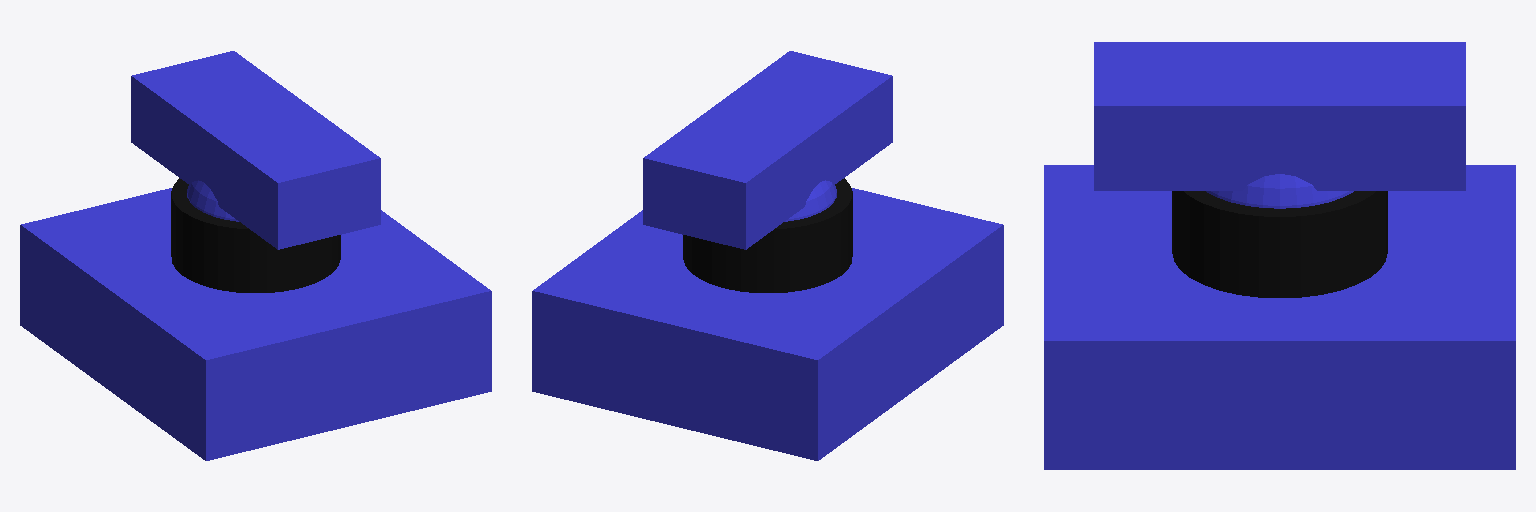
URDF robot description (evolved_robot):
<?xml version="1.0"?>
<robot name="evolved_robot">
  <material name="metal">
    <color rgba="0.7 0.7 0.7 1.0"/>
  </material>
  <material name="plastic">
    <color rgba="0.3 0.3 0.9 1.0"/>
  </material>
  <material name="rubber">
    <color rgba="0.1 0.1 0.1 1.0"/>
  </material>
  <material name="red">
    <color rgba="1.0 0.0 0.0 1.0"/>
  </material>
  <material name="wheel_material">
    <color rgba="0.2 0.2 0.2 1.0"/>
  </material>
  <link name="base_link">
    <visual>
      <geometry><box size="0.2782065296935696 0.3130306021335339 0.0939747855253997"/></geometry>
      <material name="plastic"/>
    </visual>
    <collision>
      <geometry><box size="0.2782065296935696 0.3130306021335339 0.0939747855253997"/></geometry>
    </collision>
    <inertial>
      <mass value="5.0"/>
      <inertia ixx="0.08901618182218973" ixy="0" ixz="0" 
               iyy="0.07185844456556993" iyz="0" 
               izz="0.1461558591968515"/>
    </inertial>
  </link>
  <link name="link1">
    <visual>
      <geometry><cylinder radius="0.07158522055848092" length="0.11932034292552557"/></geometry>
      <material name="rubber"/>
    </visual>
    <collision>
      <geometry><cylinder radius="0.07158522055848092" length="0.11932034292552557"/></geometry>
    </collision>
    <inertial>
      <mass value="0.5"/>
      <inertia ixx="0.0024675563035903413" ixy="0" ixz="0" 
               iyy="0.0024675563035903413" iyz="0" 
               izz="0.0025622219012031797"/>
    </inertial>
  </link>
  <joint name="joint1" type="prismatic">
    <parent link="base_link"/>
    <child link="link1"/>
    <origin xyz="0 0 0.04698739276269985" rpy="0 0 0"/>
    <axis xyz="0.9162275239977837 0.0 -0.40065836353293605"/>
    <dynamics damping="0.40154759364569137" friction="0.1"/>
    <limit lower="-0.4373221712677814" upper="0.942" effort="100" velocity="100"/>
  </joint>
  <link name="link2">
    <visual>
      <geometry><sphere radius="0.05930375874053482"/></geometry>
      <material name="plastic"/>
    </visual>
    <collision>
      <geometry><sphere radius="0.05930375874053482"/></geometry>
    </collision>
    <inertial>
      <mass value="0.5"/>
      <inertia ixx="0.001406774320302224" ixy="0" ixz="0" 
               iyy="0.001406774320302224" iyz="0" 
               izz="0.001406774320302224"/>
    </inertial>
  </link>
  <joint name="joint2" type="revolute">
    <parent link="base_link"/>
    <child link="link2"/>
    <origin xyz="0 0 0.09698739276269985" rpy="0 0 0"/>
    <axis xyz="0.06924333471532548 -0.465906071218334 -0.8821206796121482"/>
    <dynamics damping="0.4562130730949524" friction="0.1"/>
    <limit lower="-1.3592207787626347" upper="0.31400000000000006" effort="100" velocity="100"/>
  </joint>
  <link name="link3">
    <visual>
      <geometry><box size="0.10010991640666202 0.24785417138997268 0.06217577530324774"/></geometry>
      <material name="plastic"/>
    </visual>
    <collision>
      <geometry><box size="0.10010991640666202 0.24785417138997268 0.06217577530324774"/></geometry>
    </collision>
    <inertial>
      <mass value="0.5"/>
      <inertia ixx="0.005441459775830825" ixy="0" ixz="0" 
               iyy="0.001157318533125734" iyz="0" 
               izz="0.005954473803196567"/>
    </inertial>
  </link>
  <joint name="joint3" type="fixed">
    <parent link="base_link"/>
    <child link="link3"/>
    <origin xyz="0 0 0.14698739276269984" rpy="0 0 0"/>
    <axis xyz="0.8223284599852578 0.05212374979236044 -0.5666207008271562"/>
    <dynamics damping="0.7639415923927636" friction="0.1"/>
  </joint>
</robot>

--- What the picture shows (computed from the rendered views, not written in the file) ---
Views: 3 orthographic renders of the robot side by side, from view 1: azimuth 30°, elevation 25°; view 2: azimuth 150°, elevation 25°; view 3: azimuth 270°, elevation 25°.
Model evolved_robot with 4 links and 3 joints (1 revolute, 1 prismatic, 1 fixed), rooted at base_link, posed all joints at 0.
Links seen in each view (by area): view 1: base_link, link3, link1, link2; view 2: base_link, link3, link1, link2; view 3: base_link, link3, link1, link2.
Boxes of the visible links, x1=… form: base_link: x1=20, y1=188, x2=491, y2=460; link3: x1=131, y1=51, x2=380, y2=249; link1: x1=171, y1=178, x2=340, y2=292; link2: x1=187, y1=180, x2=238, y2=221; base_link: x1=532, y1=188, x2=1003, y2=460; link3: x1=643, y1=51, x2=892, y2=249; link1: x1=683, y1=178, x2=852, y2=292; link2: x1=785, y1=180, x2=836, y2=221; base_link: x1=1044, y1=165, x2=1515, y2=469; link3: x1=1094, y1=42, x2=1465, y2=190; link1: x1=1172, y1=191, x2=1387, y2=297; link2: x1=1206, y1=174, x2=1353, y2=208.
Size in the robot's own frame: 0.2782 by 0.313 by 0.2251 metres.
Geometry: primitives only (box / cylinder / sphere), no mesh files.